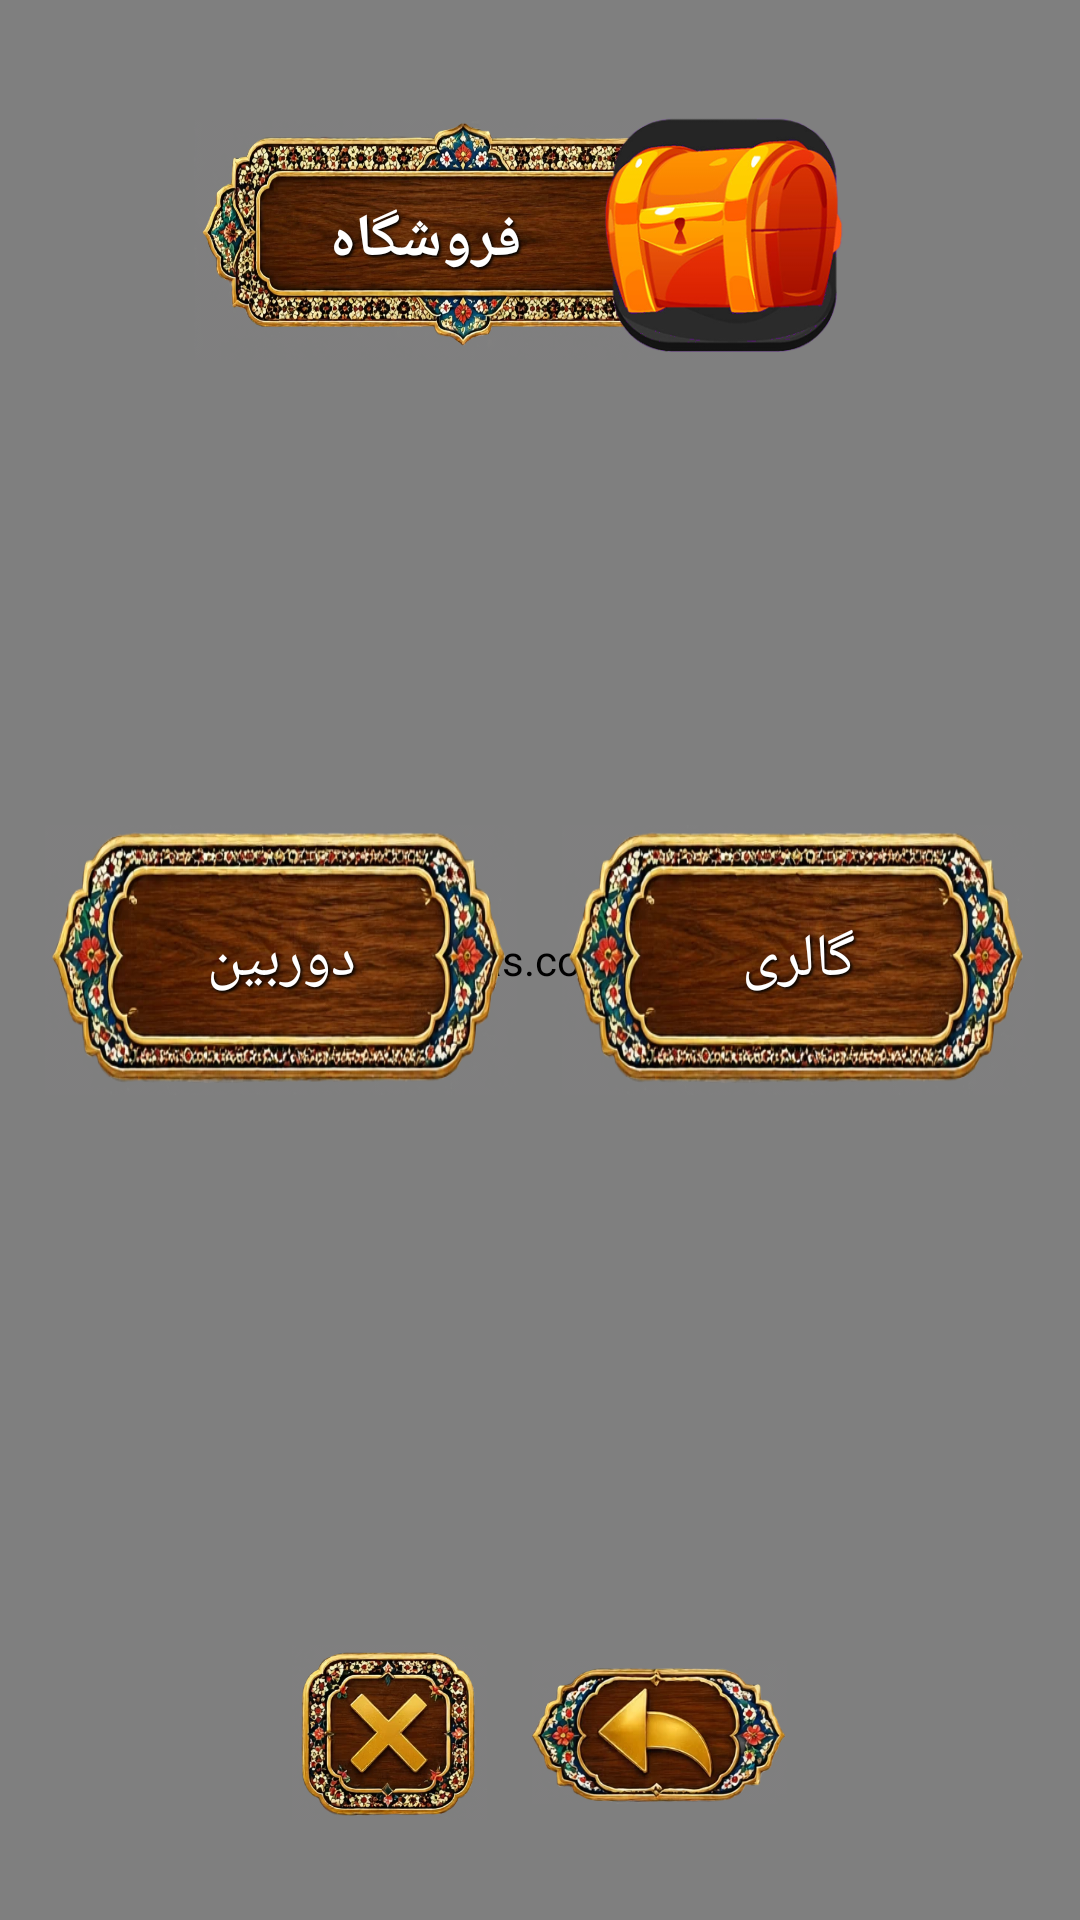

Where to tap for icons on this 1080 × 1920 app screen, as (x,y):
back: (658,1735)
close: (388,1734)
sandogh: (713,235)
